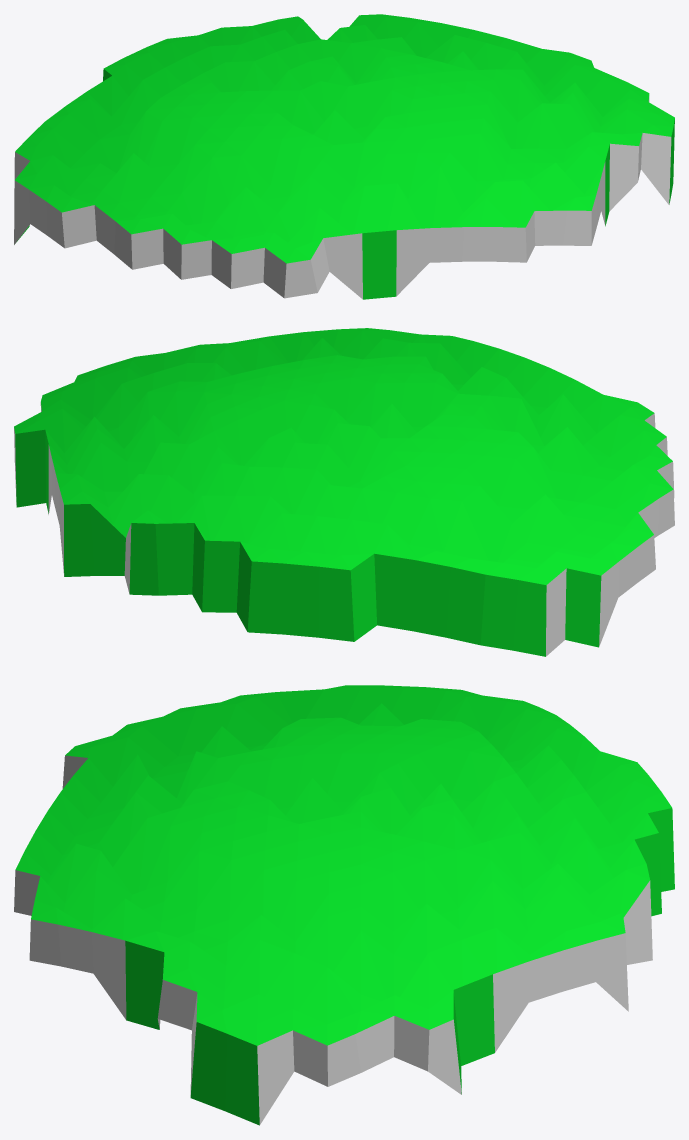
Rendered from northpole.fbx.
3 views of the same model, one above another, from view 1: azimuth 30°, elevation 25°; view 2: azimuth 150°, elevation 25°; view 3: azimuth 270°, elevation 25° (orthographic). The views are drawn at different scales.
Parts seen in each view (by area): view 1: North Pole; view 2: North Pole; view 3: North Pole.
Boxes of the visible parts, x1=… form: North Pole: x1=14, y1=14, x2=674, y2=299; North Pole: x1=14, y1=328, x2=674, y2=656; North Pole: x1=14, y1=685, x2=674, y2=1125.
Bounding box in the file's own units: 762 × 170 × 625.
